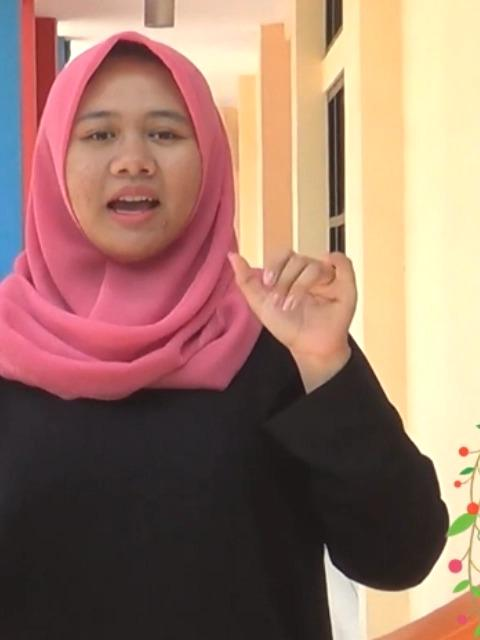Y: (228, 242, 359, 352)
